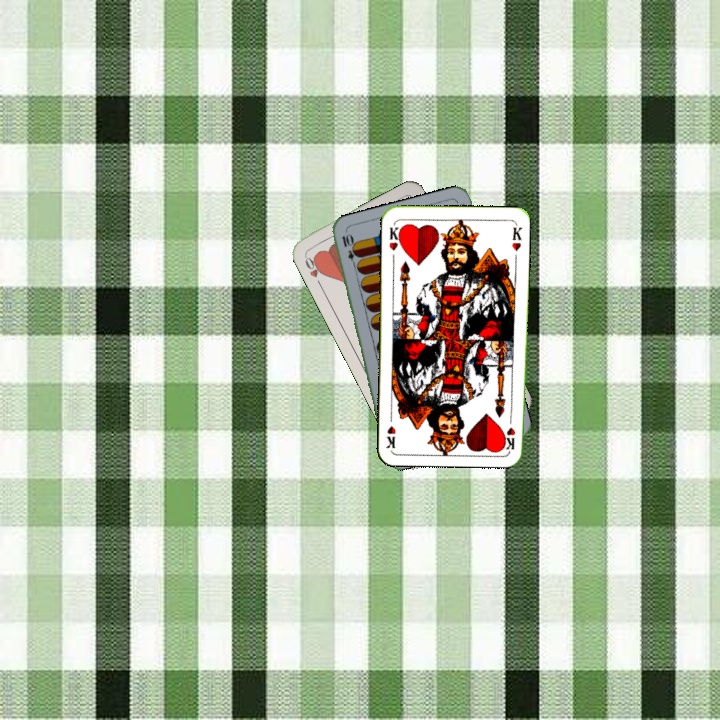E10: (338, 230, 360, 270)
HK: (502, 410, 518, 451), (385, 220, 404, 253)
HO: (300, 251, 326, 289)
